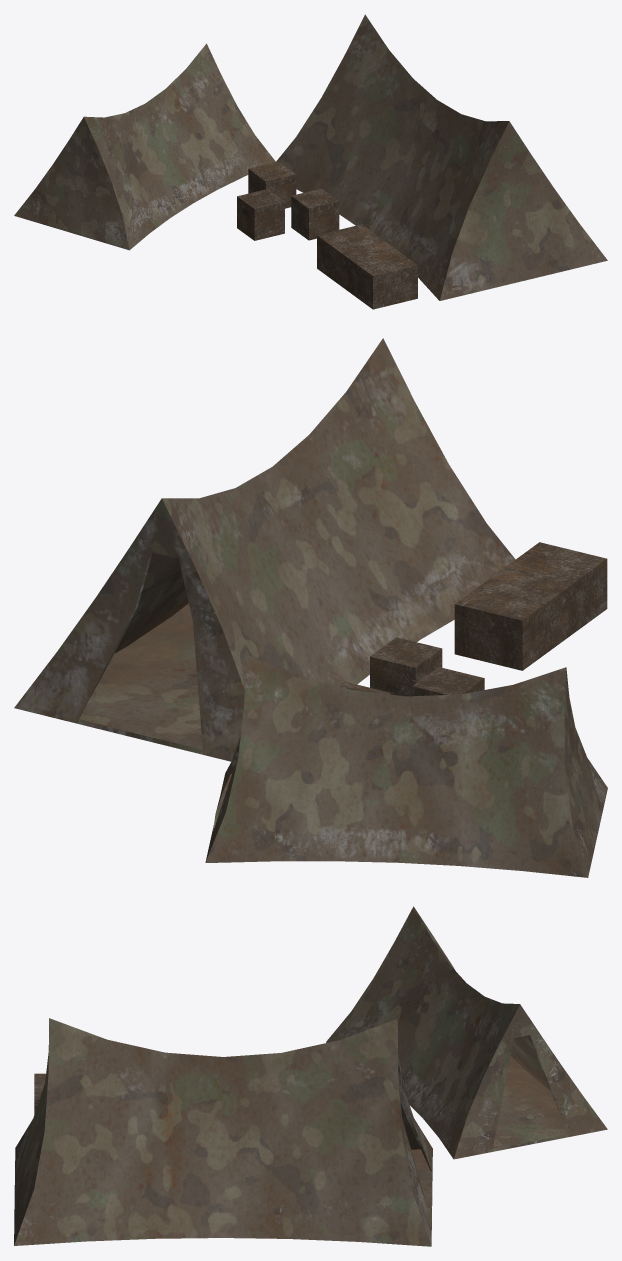
File: Campamento2.obj
3 views of the same model, one above another, from view 1: azimuth 30°, elevation 25°; view 2: azimuth 150°, elevation 25°; view 3: azimuth 270°, elevation 25° (orthographic). The views are drawn at different scales.
Parts seen in each view (by area): view 1: Box110, Box141, Box142, Box144, Box143, Box145; view 2: Box110, Box141, Box142, Box143, Box144; view 3: Box110, Box141.
Part boxes in pixels (bbox=[...]): Box110: bbox=[276, 14, 607, 300]; Box141: bbox=[14, 43, 275, 250]; Box142: bbox=[317, 224, 417, 309]; Box144: bbox=[237, 189, 284, 240]; Box143: bbox=[291, 188, 339, 240]; Box145: bbox=[248, 161, 296, 208]; Box110: bbox=[14, 338, 515, 761]; Box141: bbox=[205, 655, 607, 877]; Box142: bbox=[454, 542, 607, 670]; Box143: bbox=[370, 637, 442, 696]; Box144: bbox=[412, 667, 484, 696]; Box110: bbox=[14, 1018, 432, 1246]; Box141: bbox=[326, 906, 607, 1159].
Size of the model in its own units: 51.9 by 18.47 by 55.58.
Materials: 1 (1 with a texture image).
